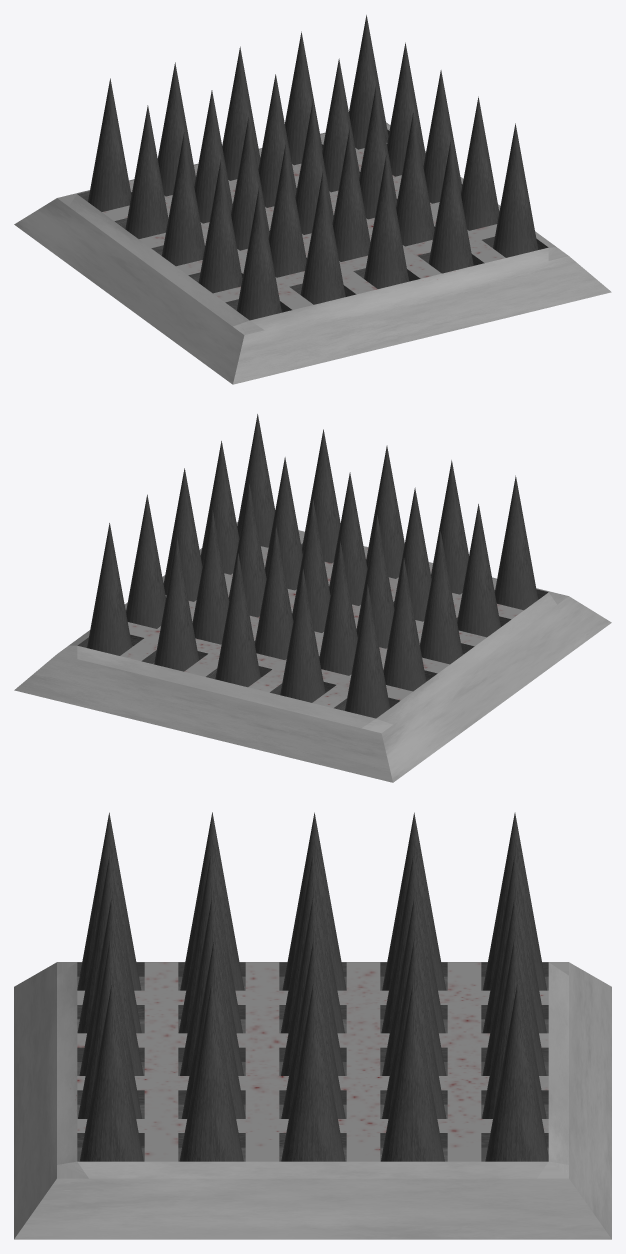
Rendered from Spike Trap.fbx.
3 renders of one model, top to bottom at view 1: azimuth 30°, elevation 25°; view 2: azimuth 150°, elevation 25°; view 3: azimuth 270°, elevation 25°, orthographic. The views are drawn at different scales.
Visible parts, largest first — view 1: Cone, Cube; view 2: Cone, Cube; view 3: Cube, Cone.
Boxes of the visible parts, x1=… form: Cone: x1=88, y1=15, x2=538, y2=320; Cube: x1=14, y1=122, x2=611, y2=384; Cone: x1=87, y1=414, x2=538, y2=718; Cube: x1=14, y1=522, x2=611, y2=782; Cube: x1=14, y1=962, x2=611, y2=1239; Cone: x1=77, y1=812, x2=548, y2=1161.
Size of the model in its own units: 888 by 354 by 888.
